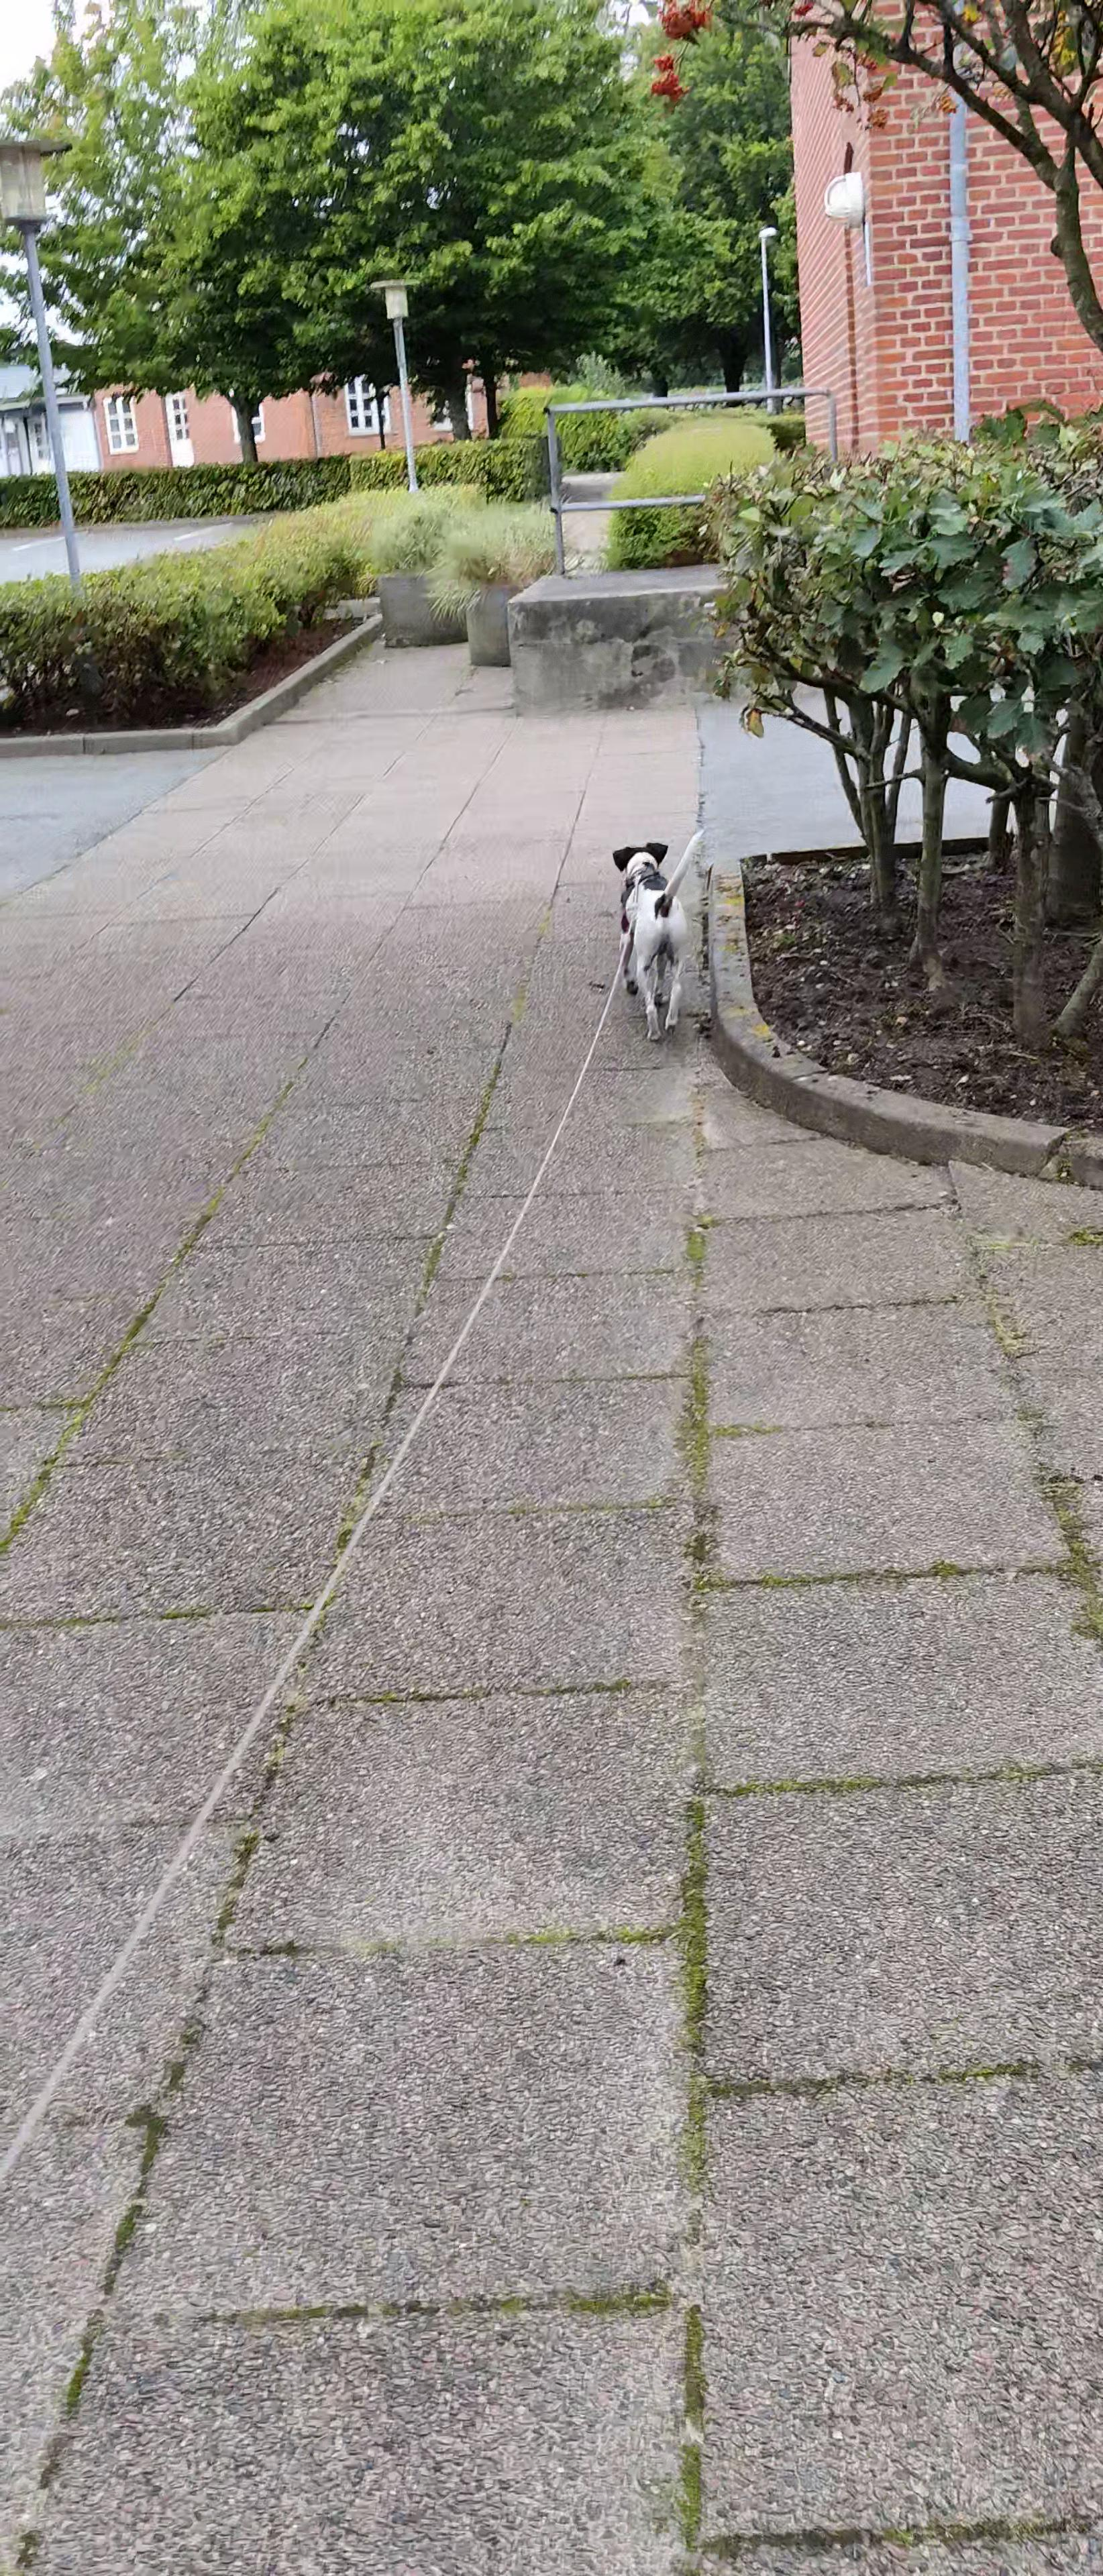Dog: (611, 825, 708, 1045)
